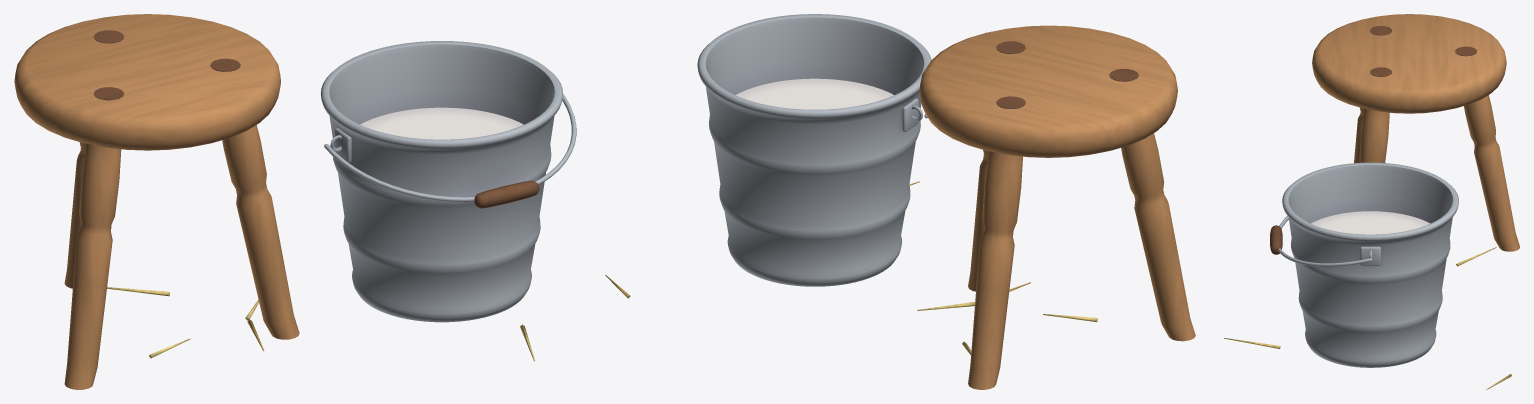
File: milking-stool.glb
The picture shows the model from 3 angles, left to right: view 1: azimuth 30°, elevation 25°; view 2: azimuth 150°, elevation 25°; view 3: azimuth 270°, elevation 25°; orthographic projection. The views are drawn at different scales.
Visible parts, largest first — view 1: milking-stool_body; view 2: milking-stool_body; view 3: milking-stool_body.
Part boxes in pixels (box(x1,y1,x2,y2)): milking-stool_body: box(14, 14, 576, 389); milking-stool_body: box(605, 14, 1195, 389); milking-stool_body: box(1224, 14, 1519, 389).
Size of the model in its own units: 0.6798 by 0.3358 by 0.4591.
1 material, 1 textured.
